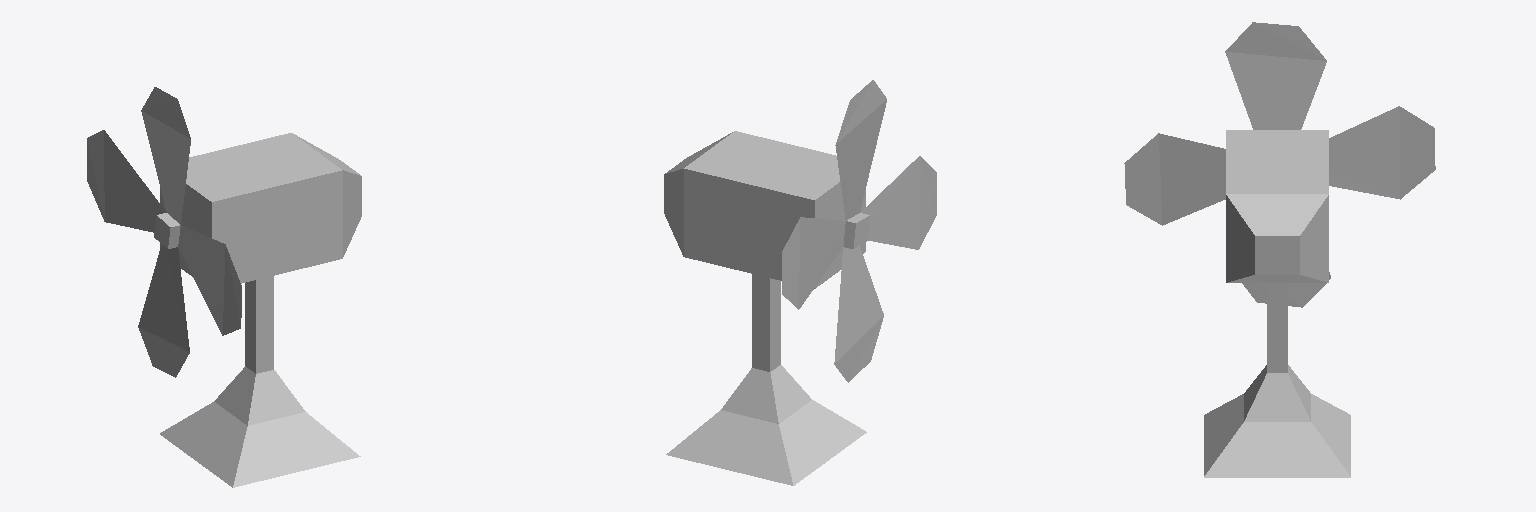
The model's file is fan.obj.
The picture shows the model from 3 angles: view 1: azimuth 30°, elevation 25°; view 2: azimuth 150°, elevation 25°; view 3: azimuth 270°, elevation 25°; orthographic projection.
Parts seen in each view (by area): view 1: Cube_Cube.004; view 2: Cube_Cube.004; view 3: Cube_Cube.004.
Boxes of the visible parts, x1=… form: Cube_Cube.004: x1=87, y1=87, x2=361, y2=487; Cube_Cube.004: x1=664, y1=80, x2=936, y2=485; Cube_Cube.004: x1=1124, y1=22, x2=1435, y2=477.
Bounding box in the file's own units: 0.8257 × 1.59 × 1.19.